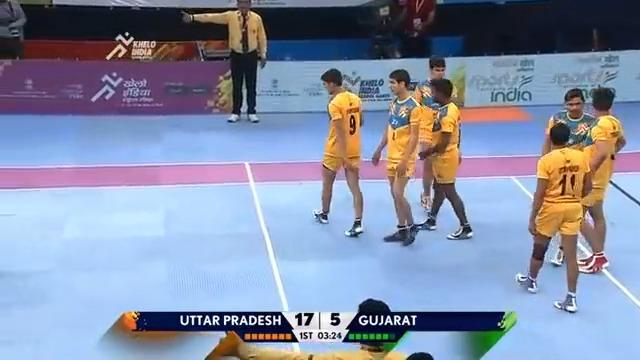Player: (515, 121, 594, 312), (549, 86, 626, 273), (203, 298, 434, 359), (414, 77, 473, 240), (311, 67, 364, 236), (371, 68, 421, 246)
referee: (179, 0, 268, 123)
